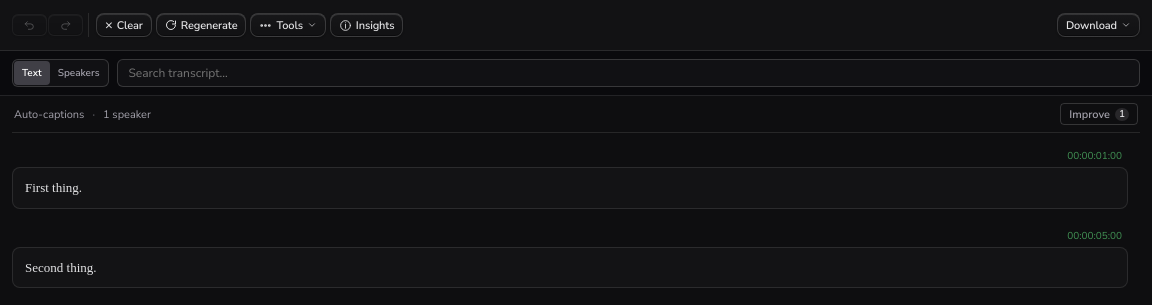
Scenario: the Tools item says which one it is › reads Detect speakers when the transcript has none
The width and height of the screenshot is (1152, 305).
Expected: the button "First thing." is shown, [25,180,82,195]
Click the button "Tools": (288,25) [250,13,326,37]
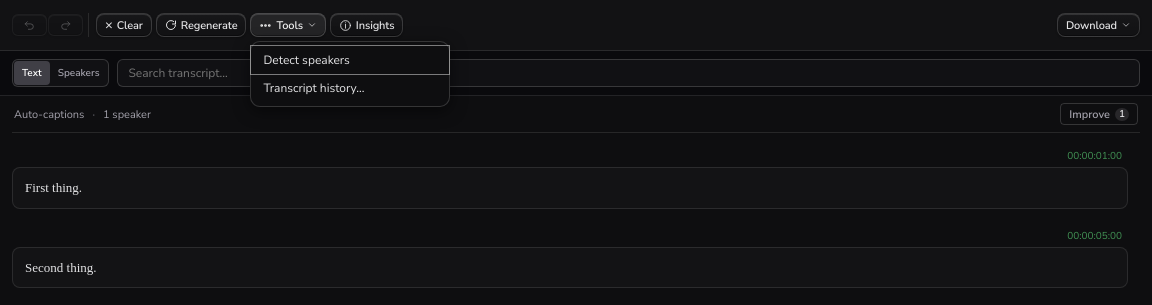
Expected: the menu item "Detect speakers" is shown, [252,46,450,74]
